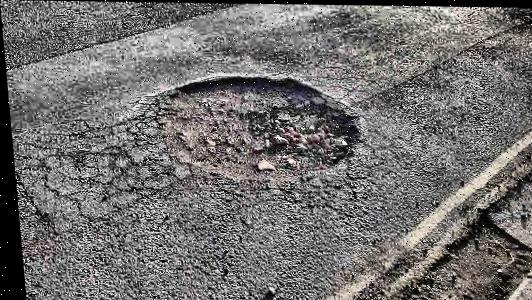pothole: (124, 71, 369, 178), (394, 215, 532, 299)
